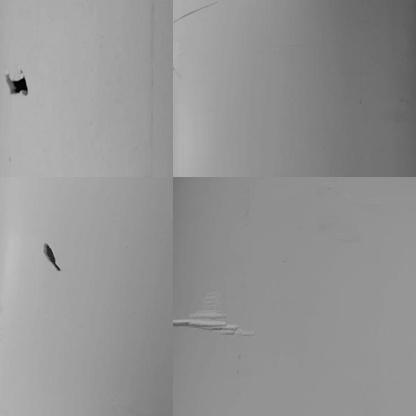kongdong: (3, 70, 29, 97), (42, 245, 62, 274)
sunshang: (170, 290, 258, 343)
